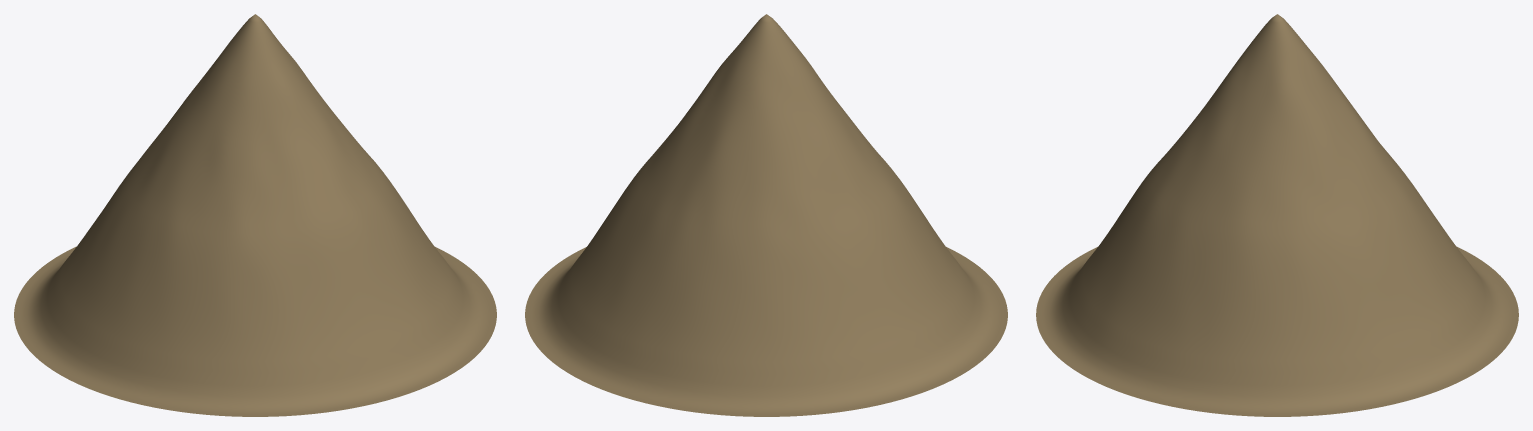
File: hill-v2.1.glb
3 views of the same model, side by side, from view 1: azimuth 30°, elevation 25°; view 2: azimuth 150°, elevation 25°; view 3: azimuth 270°, elevation 25° (orthographic).
Visible parts, largest first — view 1: hill_v2_1; view 2: hill_v2_1; view 3: hill_v2_1.
Part boxes in pixels (<box>): hill_v2_1: <box>14,14,496,416</box>; hill_v2_1: <box>525,14,1007,416</box>; hill_v2_1: <box>1036,14,1518,416</box>.
Bounding box in the file's own units: 2 × 1.38 × 2.
